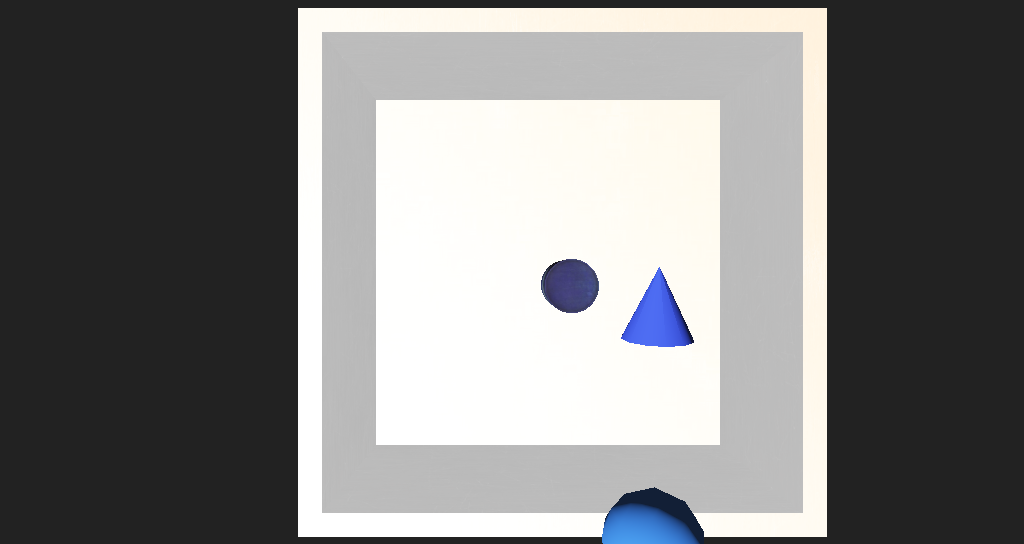cone: (502, 260, 549, 293)
cylinder: (566, 265, 633, 317)
sphere: (536, 396, 623, 453)
